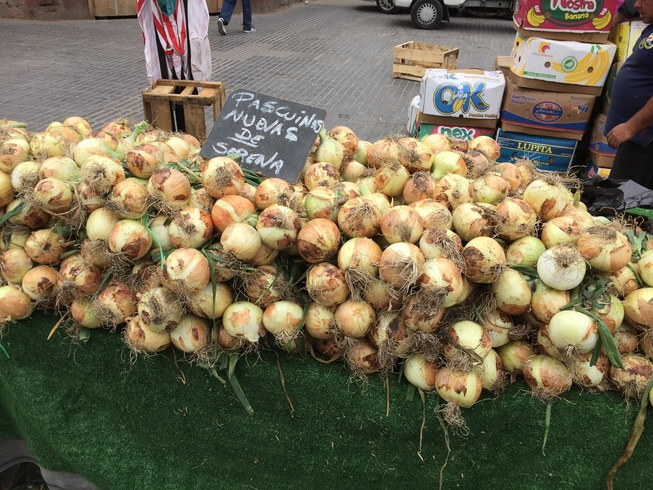precio: (197, 84, 343, 195)
